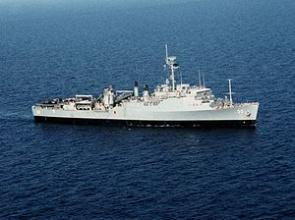warship: (26, 58, 260, 122)
